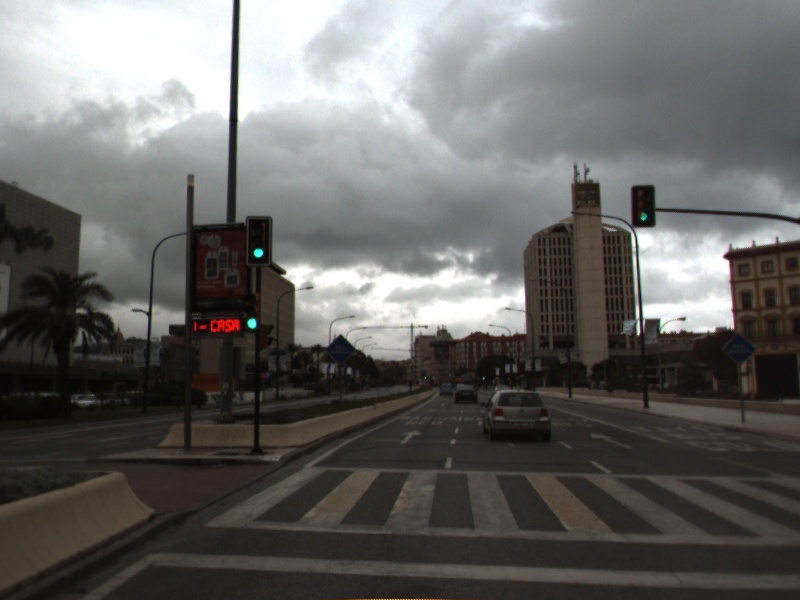STRAIGHT: (588, 430, 636, 451), (397, 428, 425, 446)
